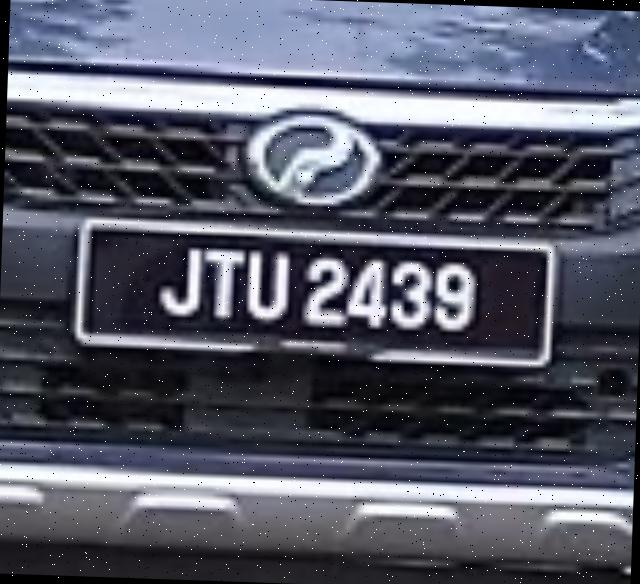License_Plate: (55, 200, 582, 388)
